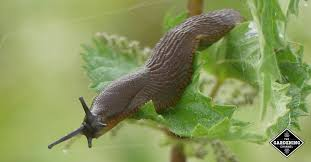slug: (47, 8, 241, 148)
